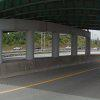Bridge: (1, 2, 94, 44)
